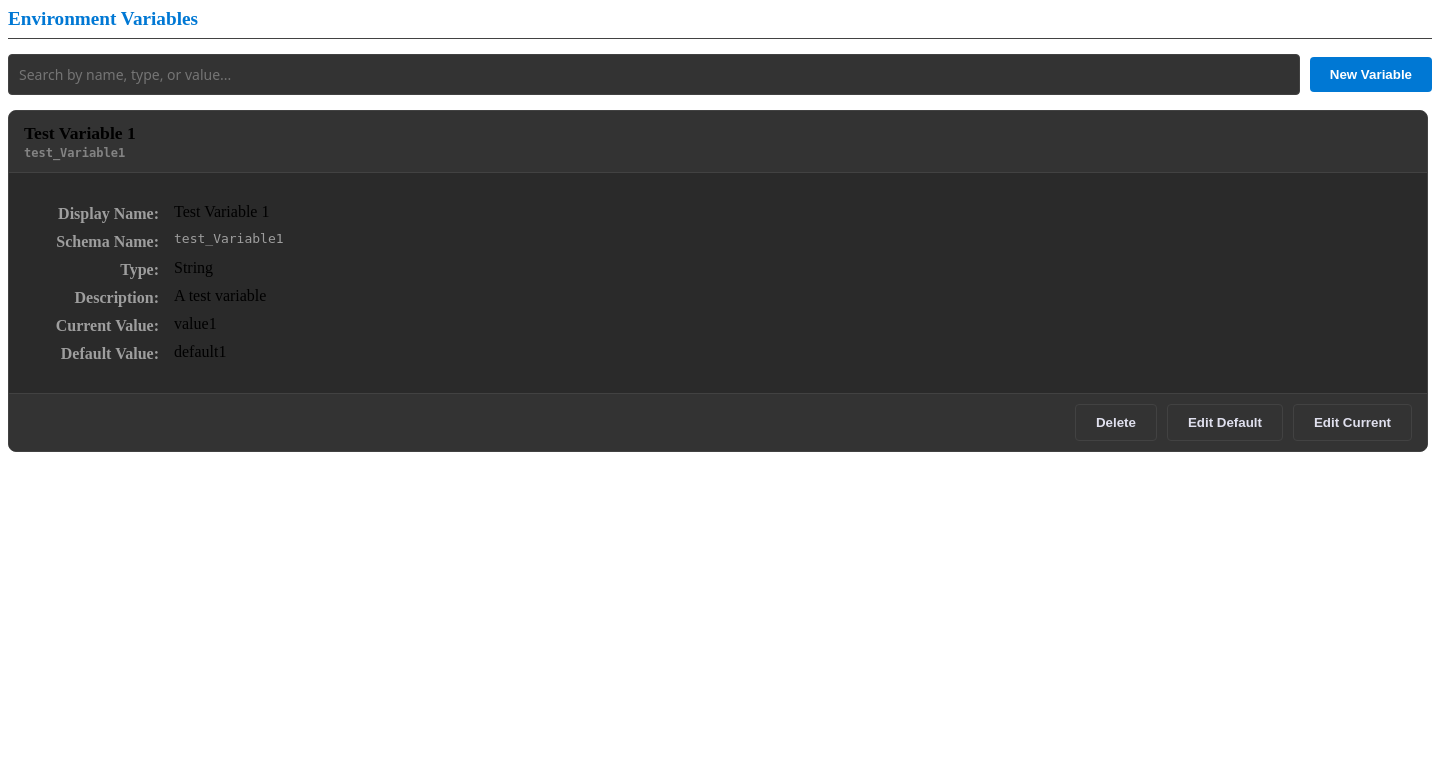
Test: EnvVarsTab › solution selection and switching › should pre-fill schema with publisher prefix
What coordinates should you click on to do the following:
click the button with id "env-var-add-btn"
I would click on:
 (1371, 74)
Its box is top-left (1310, 57), bottom-right (1432, 92).
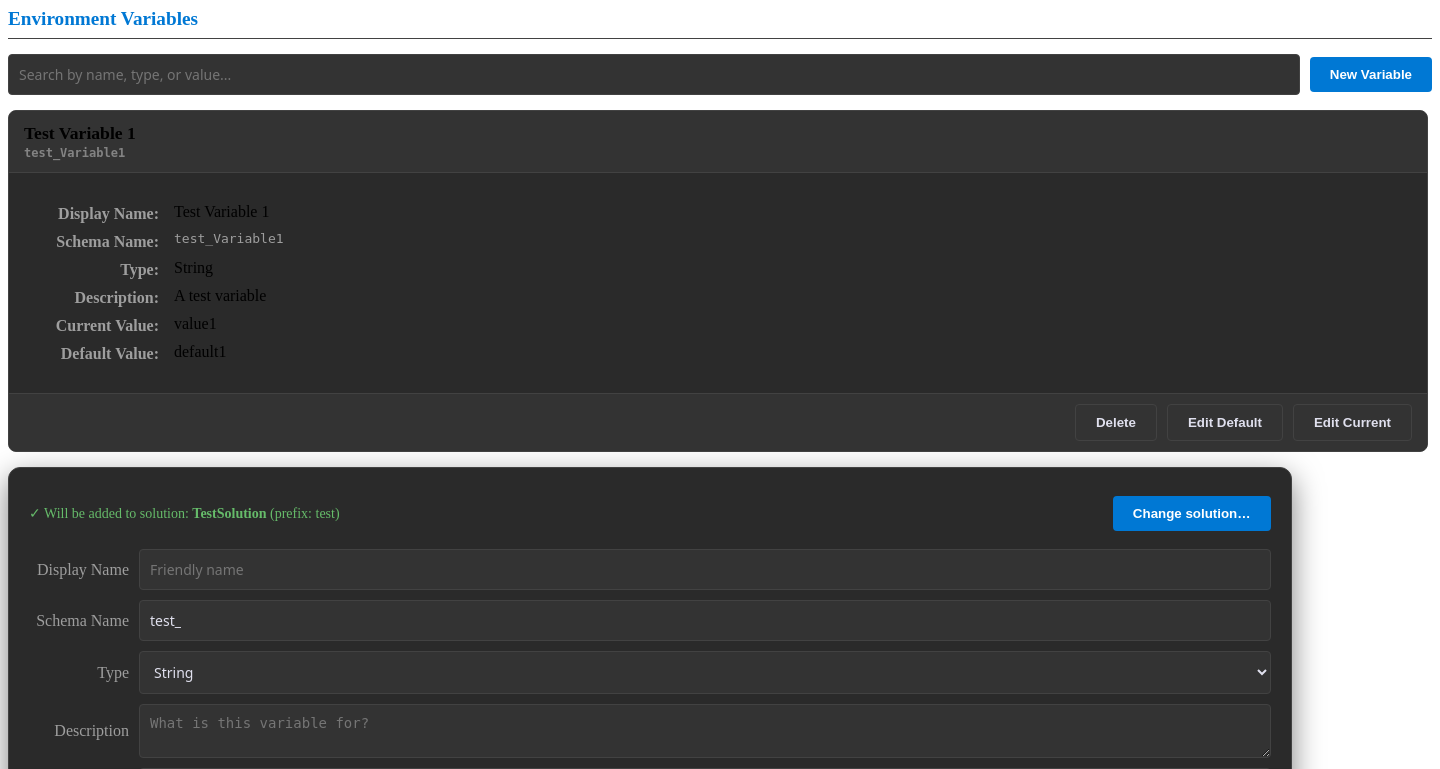
Result: the field with id "nv-schema" holds "test_" at top-left (139, 600), bottom-right (1271, 641)
